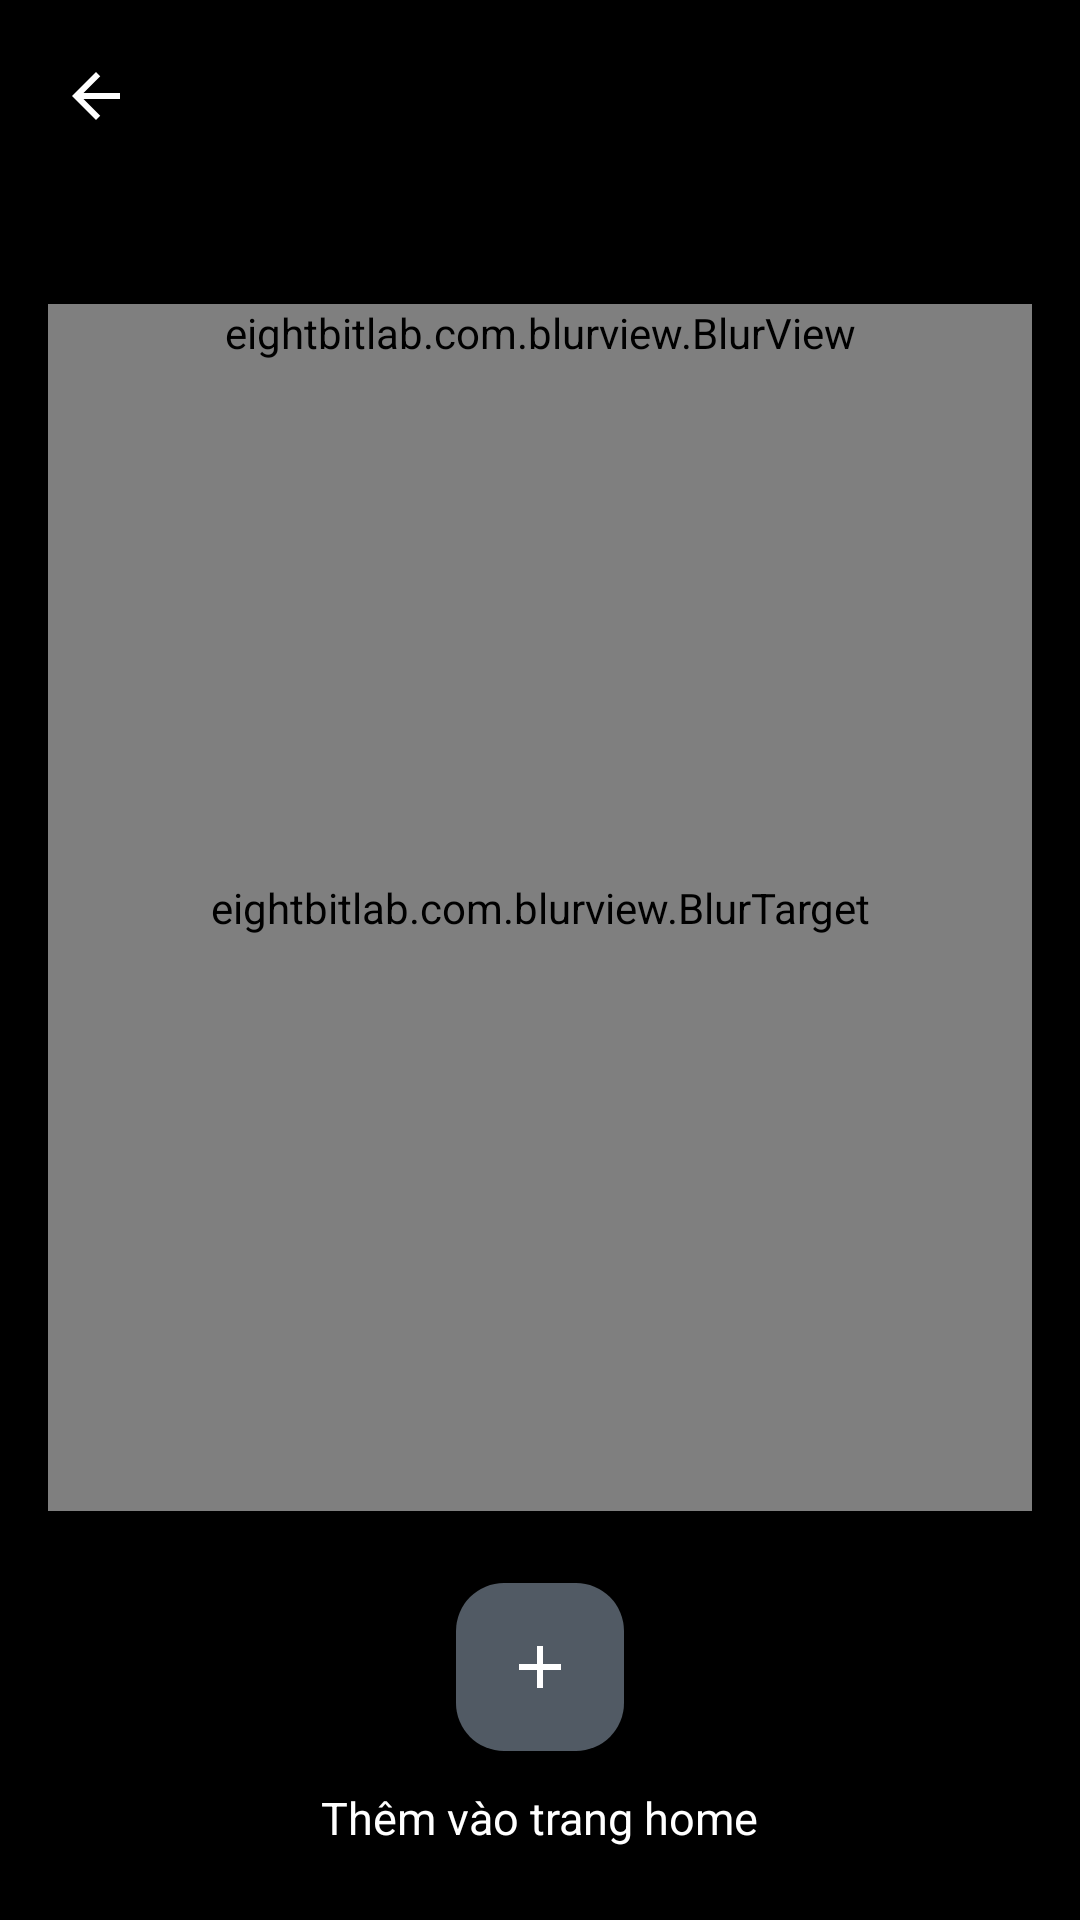

Locate icon controls on the screen. Image size 1080 x 1920, boxes as (x1, y1, x2, y2).
Hủy: (72, 72, 120, 120)
